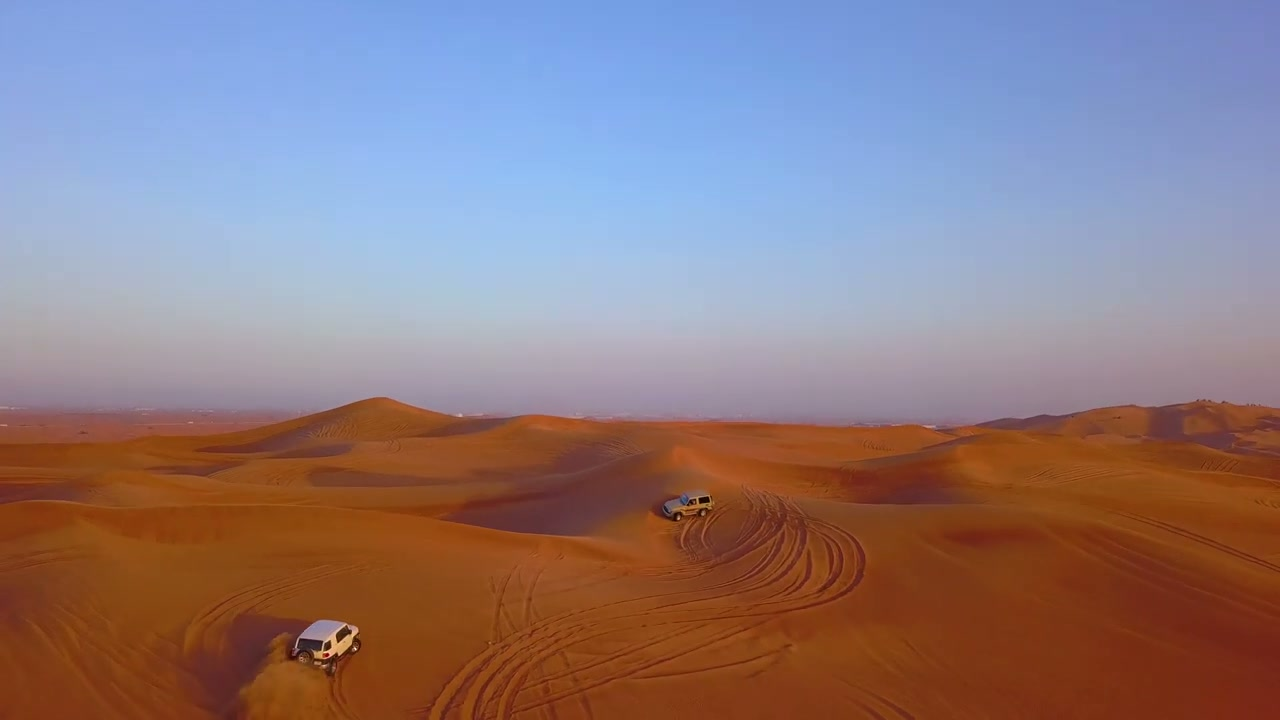vehicle_track: (428, 489, 865, 719), (183, 562, 374, 655), (1115, 511, 1279, 572), (1022, 465, 1135, 486)
